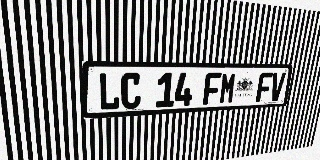1: (156, 72, 176, 107)
4: (174, 72, 194, 106)
C: (121, 72, 141, 109)
F: (203, 72, 221, 105), (256, 72, 273, 102)
L: (98, 73, 120, 111)
M: (219, 72, 237, 104)
V: (269, 72, 286, 101)
